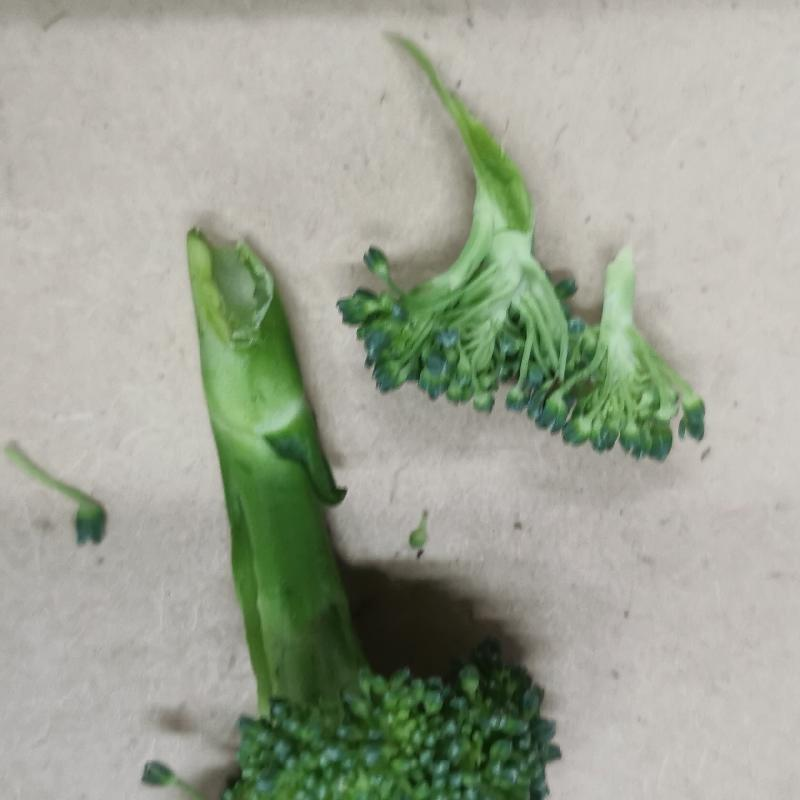broccoli: (149, 212, 720, 799)
